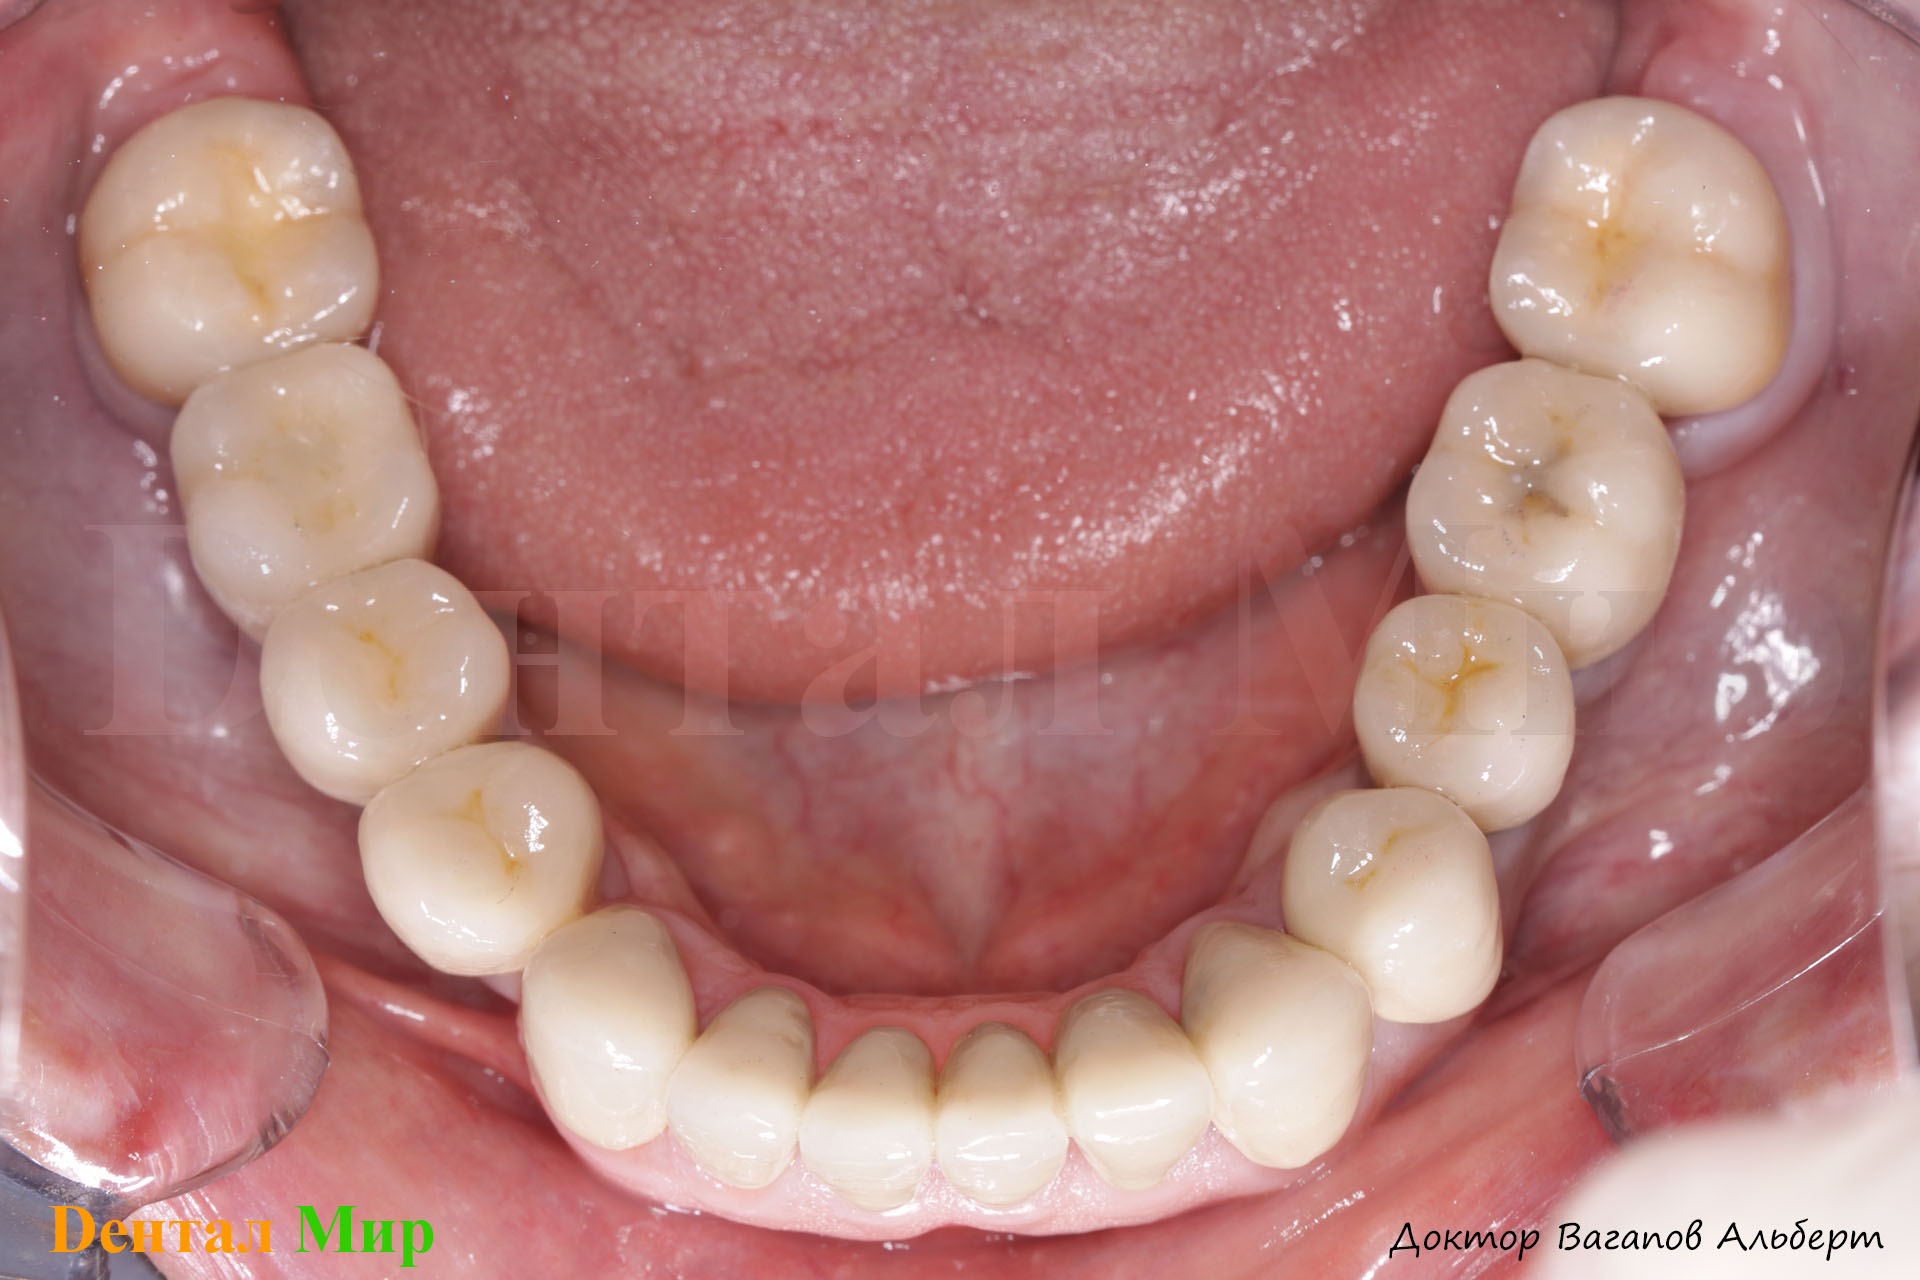LL1BC_healthy: (1289, 800, 1497, 1014)
LL1M_decay: (1416, 364, 1671, 600)
LL2BC_healthy: (1359, 607, 1569, 819)
LL2M_decay: (1507, 103, 1787, 380)
LLCI_healthy: (934, 1027, 1067, 1201)
LLC_healthy: (1189, 921, 1364, 1160)
LLLI_healthy: (1063, 1000, 1210, 1174)
LR1BC_healthy: (354, 747, 590, 971)
LR1M_healthy: (171, 347, 431, 594)
LR2BC_healthy: (267, 563, 509, 774)
LR2M_decay: (89, 103, 370, 363)
LRCI_healthy: (809, 1026, 929, 1203)
LRC_healthy: (526, 920, 687, 1141)
LRLI_healthy: (677, 987, 803, 1183)
